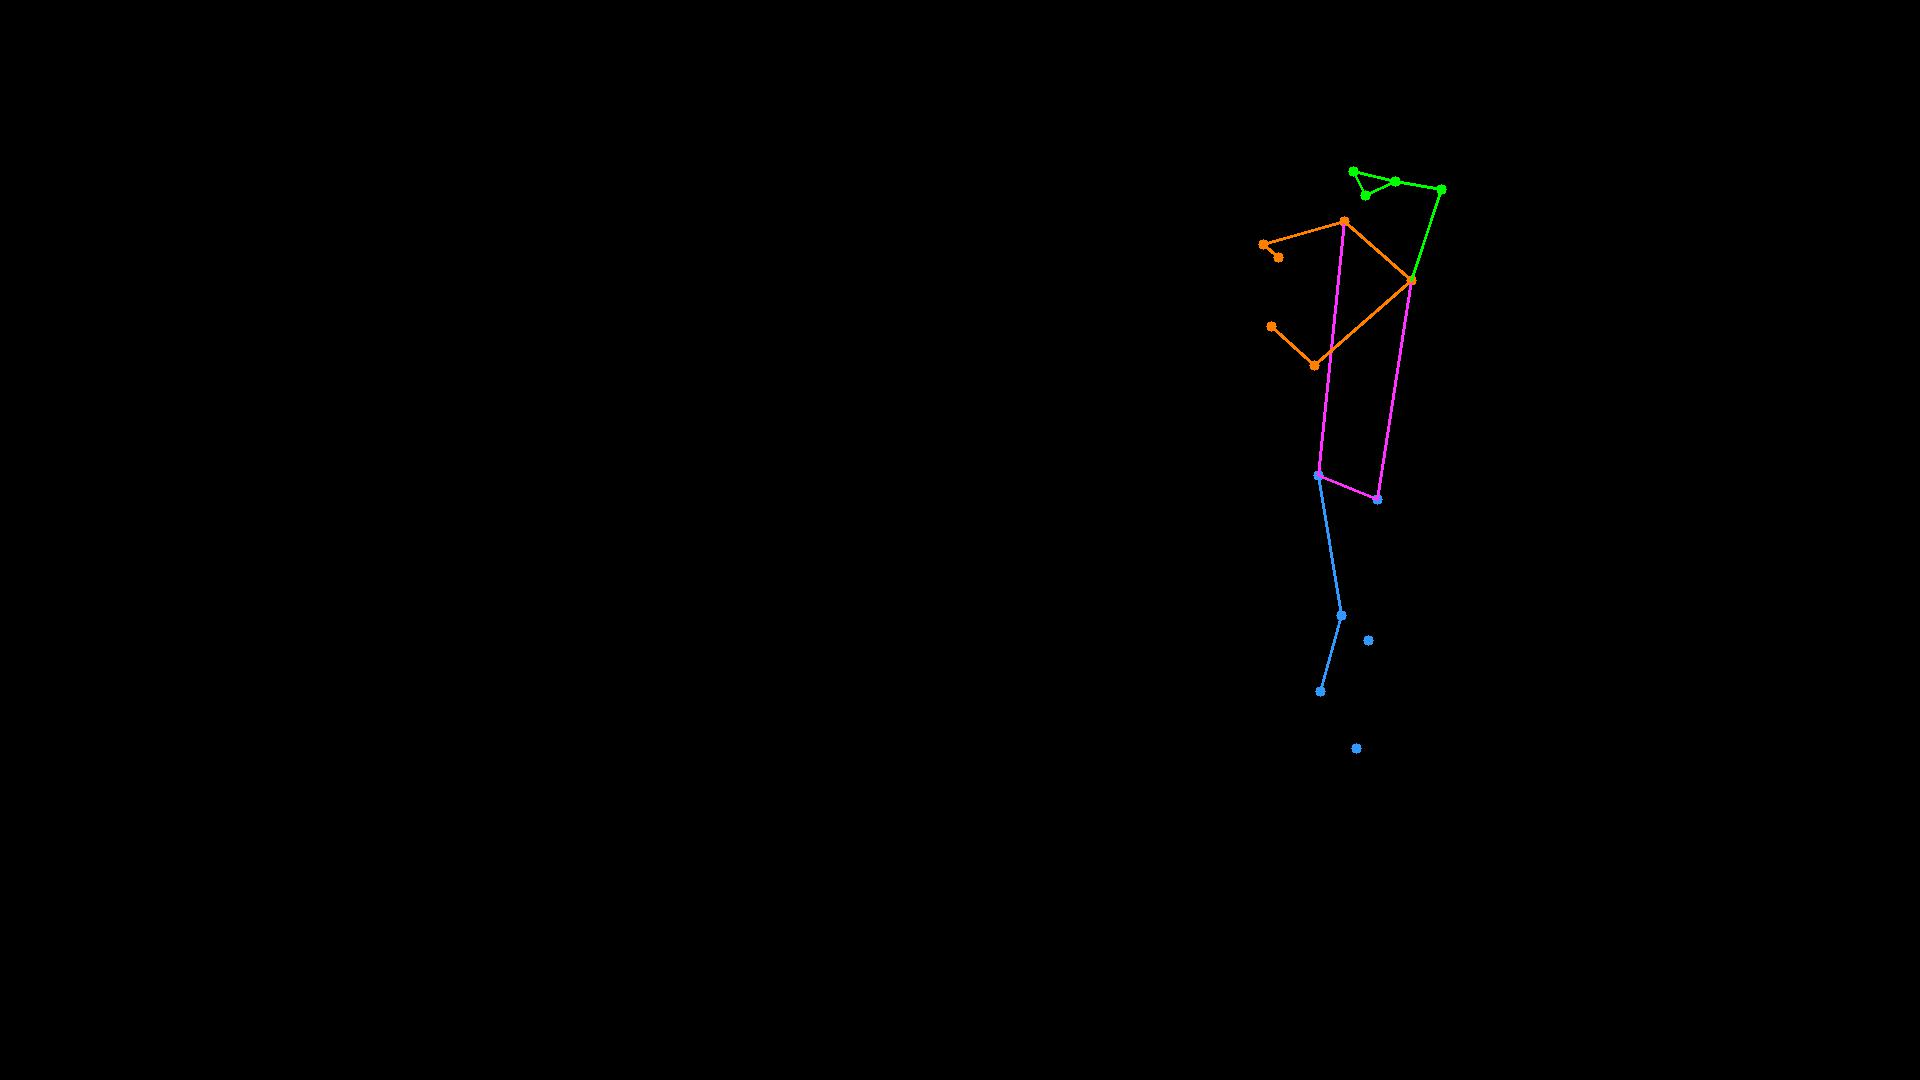normal: (1204, 94, 1510, 800)
